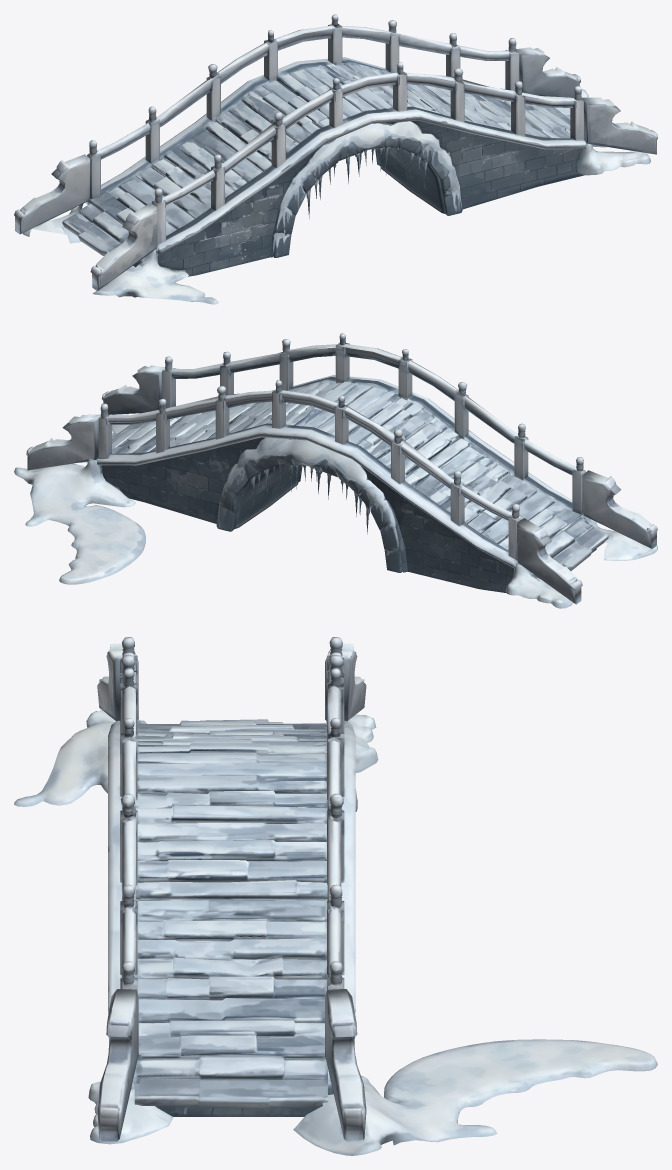
File: arch_bridge.glb
3 renders of one model, top to bottom at view 1: azimuth 30°, elevation 25°; view 2: azimuth 150°, elevation 25°; view 3: azimuth 270°, elevation 25°, orthographic. The views are drawn at different scales.
Visible parts, largest first — view 1: tripo_0c75600e_15ee_49cc_8da7_63c1359c7054; view 2: tripo_0c75600e_15ee_49cc_8da7_63c1359c7054; view 3: tripo_0c75600e_15ee_49cc_8da7_63c1359c7054.
Part boxes in pixels (x1,y1,x2,y2): tripo_0c75600e_15ee_49cc_8da7_63c1359c7054: (14,14,657,304); tripo_0c75600e_15ee_49cc_8da7_63c1359c7054: (14,333,657,608); tripo_0c75600e_15ee_49cc_8da7_63c1359c7054: (14,637,657,1155).
Size of the model in its own units: 0.9995 by 0.27 by 0.6128.
Materials: 1 (1 with a texture image).
